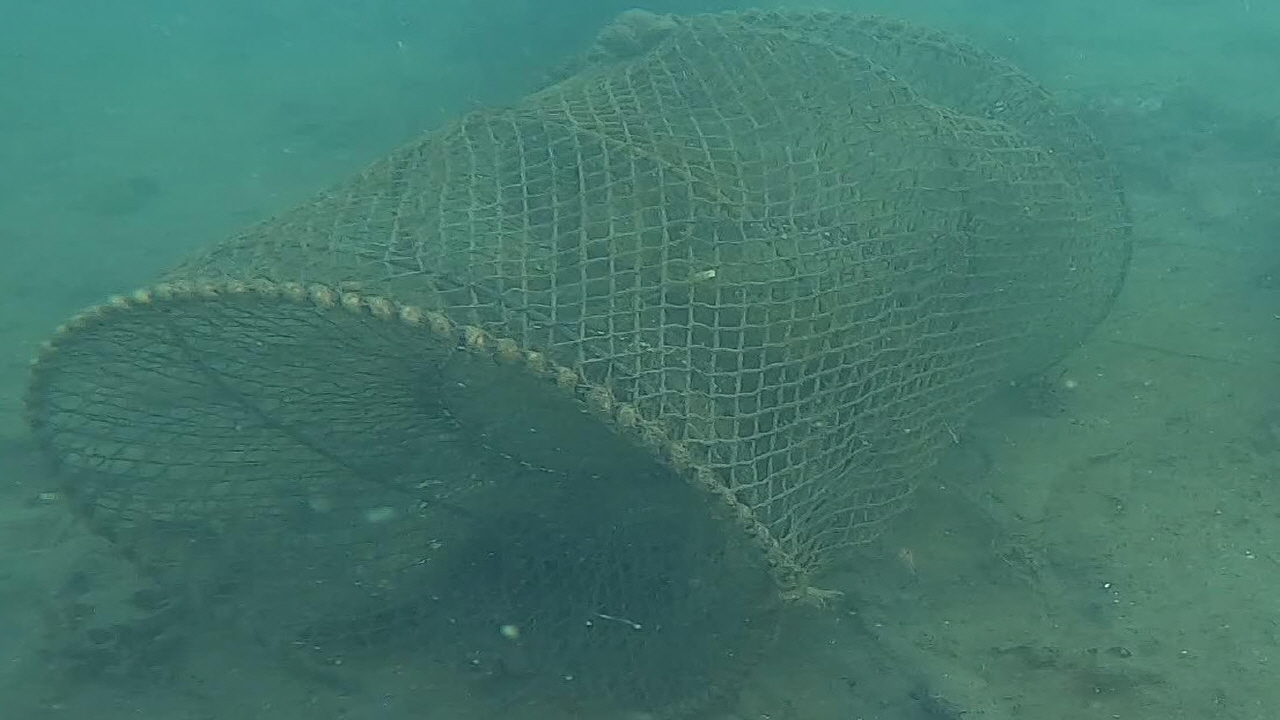spring fish trap: (20, 5, 1131, 719)
